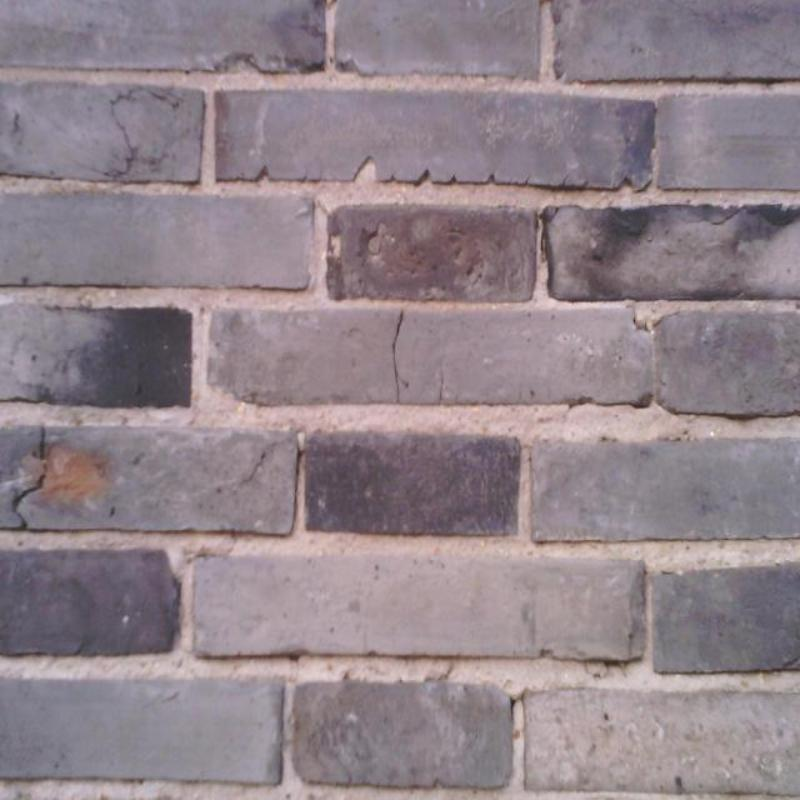crack: (12, 474, 49, 529), (392, 310, 404, 404), (510, 692, 524, 720), (40, 428, 48, 461)
